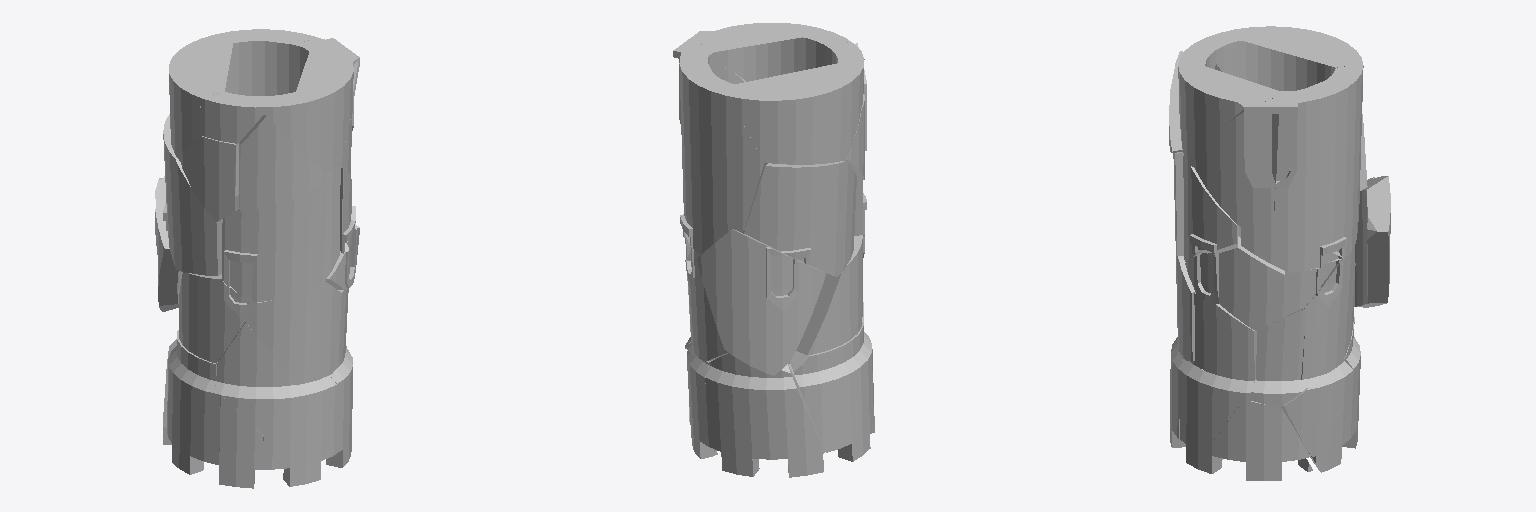
File: destruction_tower_000018.obj
3 renders of one model, left to right at view 1: azimuth 30°, elevation 25°; view 2: azimuth 150°, elevation 25°; view 3: azimuth 270°, elevation 25°, orthographic.
Parts seen in each view (by area): view 1: tower.001_cell.024_Mesh.024, tower.001_cell.028_Mesh.028, tower.001_cell.021_Mesh.021, tower.001_cell.006_Mesh.006, tower.001_cell.011_Mesh.011, tower.001_cell.002_Mesh.002, tower.001_cell.013_Mesh.013, tower.001_cell.003_Mesh.003, tower.001_cell.015_Mesh.015, tower.001_cell.009_Mesh.009, tower.001_cell.017_Mesh.017, tower.001_cell.014_Mesh.014 (+9 smaller); view 2: tower.001_cell.025_Mesh.025, tower.001_cell.017_Mesh.017, tower.001_cell.007_Mesh.007, tower.001_cell.015_Mesh.015, tower.001_cell.003_Mesh.003, tower.001_cell.005_Mesh.005, tower.001_cell.028_Mesh.028, tower.001_cell.009_Mesh.009, tower.001_cell.012_Mesh.012, tower.001_cell.029_Mesh.029, tower.001_cell.006_Mesh.006, tower.001_cell.026_Mesh.026 (+3 smaller); view 3: tower.001_cell.017_Mesh.017, tower.001_cell.020_Mesh.020, tower.001_cell.015_Mesh.015, tower.001_cell.028_Mesh.028, tower.001_cell.030_Mesh.030, tower.001_cell_Mesh, tower.001_cell.012_Mesh.012, tower.001_cell.029_Mesh.029, tower.001_cell.025_Mesh.025, tower.001_cell.016_Mesh.016, tower.001_cell.010_Mesh.010, tower.001_cell.023_Mesh.023 (+11 smaller).
Boxes of the visible parts, x1,y1,x2,y2 form: tower.001_cell.024_Mesh.024: [222, 179, 326, 303]; tower.001_cell.028_Mesh.028: [257, 51, 359, 174]; tower.001_cell.021_Mesh.021: [246, 282, 342, 386]; tower.001_cell.006_Mesh.006: [171, 390, 263, 488]; tower.001_cell.011_Mesh.011: [263, 378, 336, 486]; tower.001_cell.002_Mesh.002: [239, 115, 326, 211]; tower.001_cell.013_Mesh.013: [215, 322, 297, 435]; tower.001_cell.003_Mesh.003: [163, 114, 222, 275]; tower.001_cell.015_Mesh.015: [169, 35, 232, 161]; tower.001_cell.009_Mesh.009: [179, 272, 245, 363]; tower.001_cell.017_Mesh.017: [212, 29, 317, 196]; tower.001_cell.014_Mesh.014: [181, 136, 235, 221]; tower.001_cell.025_Mesh.025: [697, 229, 825, 375]; tower.001_cell.017_Mesh.017: [679, 56, 767, 254]; tower.001_cell.007_Mesh.007: [705, 353, 824, 477]; tower.001_cell.015_Mesh.015: [729, 63, 862, 164]; tower.001_cell.003_Mesh.003: [744, 161, 856, 276]; tower.001_cell.005_Mesh.005: [790, 323, 871, 452]; tower.001_cell.028_Mesh.028: [699, 23, 849, 81]; tower.001_cell.009_Mesh.009: [796, 235, 864, 354]; tower.001_cell.012_Mesh.012: [685, 250, 727, 361]; tower.001_cell.029_Mesh.029: [687, 351, 714, 458]; tower.001_cell.006_Mesh.006: [838, 345, 874, 461]; tower.001_cell.026_Mesh.026: [673, 44, 723, 123]; tower.001_cell.017_Mesh.017: [1304, 64, 1363, 257]; tower.001_cell.020_Mesh.020: [1192, 100, 1278, 227]; tower.001_cell.015_Mesh.015: [1241, 26, 1362, 90]; tower.001_cell.028_Mesh.028: [1178, 47, 1280, 157]; tower.001_cell.030_Mesh.030: [1196, 401, 1310, 480]; tower.001_cell_Mesh: [1194, 293, 1256, 402]; tower.001_cell.012_Mesh.012: [1302, 248, 1355, 388]; tower.001_cell.029_Mesh.029: [1284, 358, 1353, 472]; tower.001_cell.025_Mesh.025: [1355, 176, 1390, 307]; tower.001_cell.016_Mesh.016: [1250, 308, 1306, 406]; tower.001_cell.010_Mesh.010: [1185, 236, 1284, 303]; tower.001_cell.023_Mesh.023: [1180, 361, 1241, 467].
Bounding box in the file's own units: 45.82 × 97.16 × 51.3.